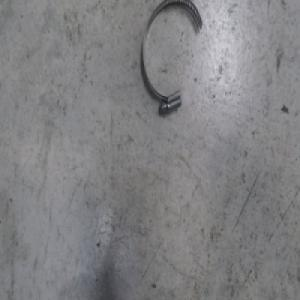AdjustableClamp: (140, 0, 203, 114)
